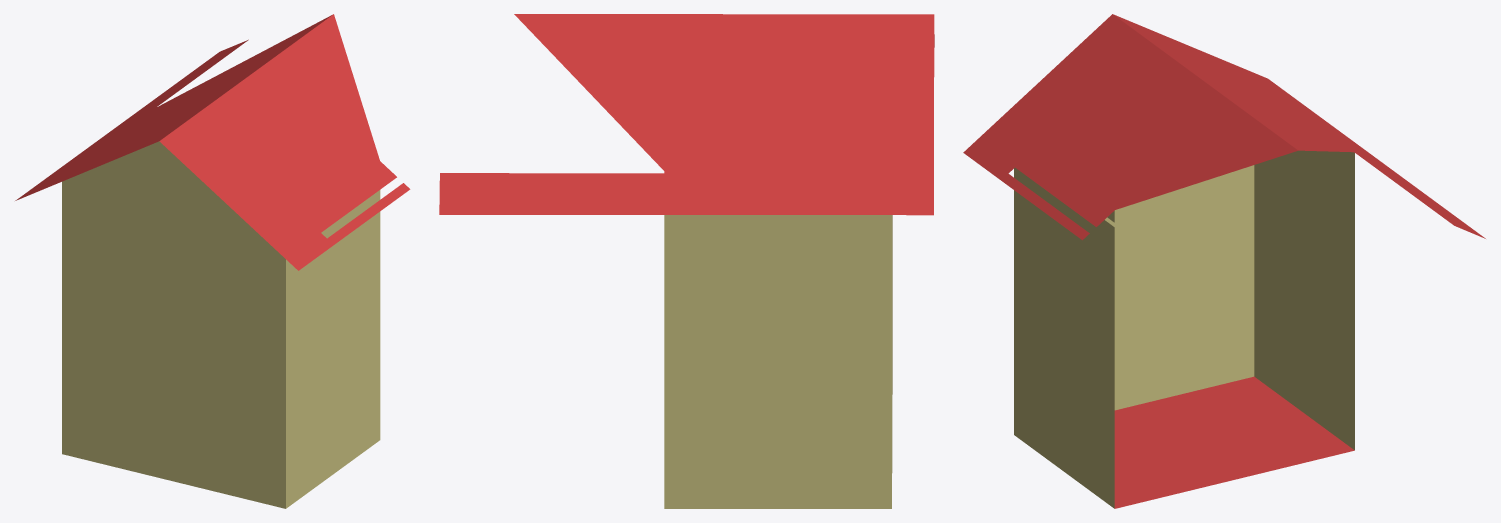
The picture shows the model from 3 angles, left to right: view 1: azimuth 30°, elevation 25°; view 2: azimuth 150°, elevation 25°; view 3: azimuth 270°, elevation 25°; orthographic projection. The views are drawn at different scales.
Bounding box in the file's own units: 8.32 × 10.55 × 8.42.
